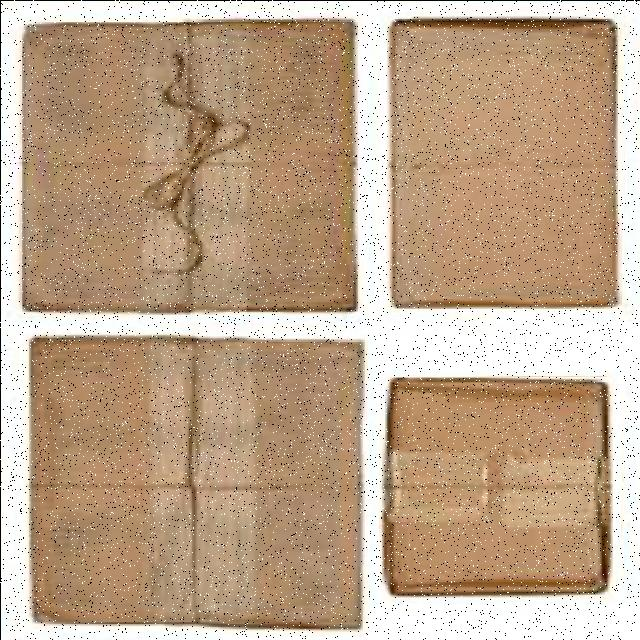normal: (17, 332, 368, 636), (378, 11, 624, 318), (378, 376, 620, 598)
